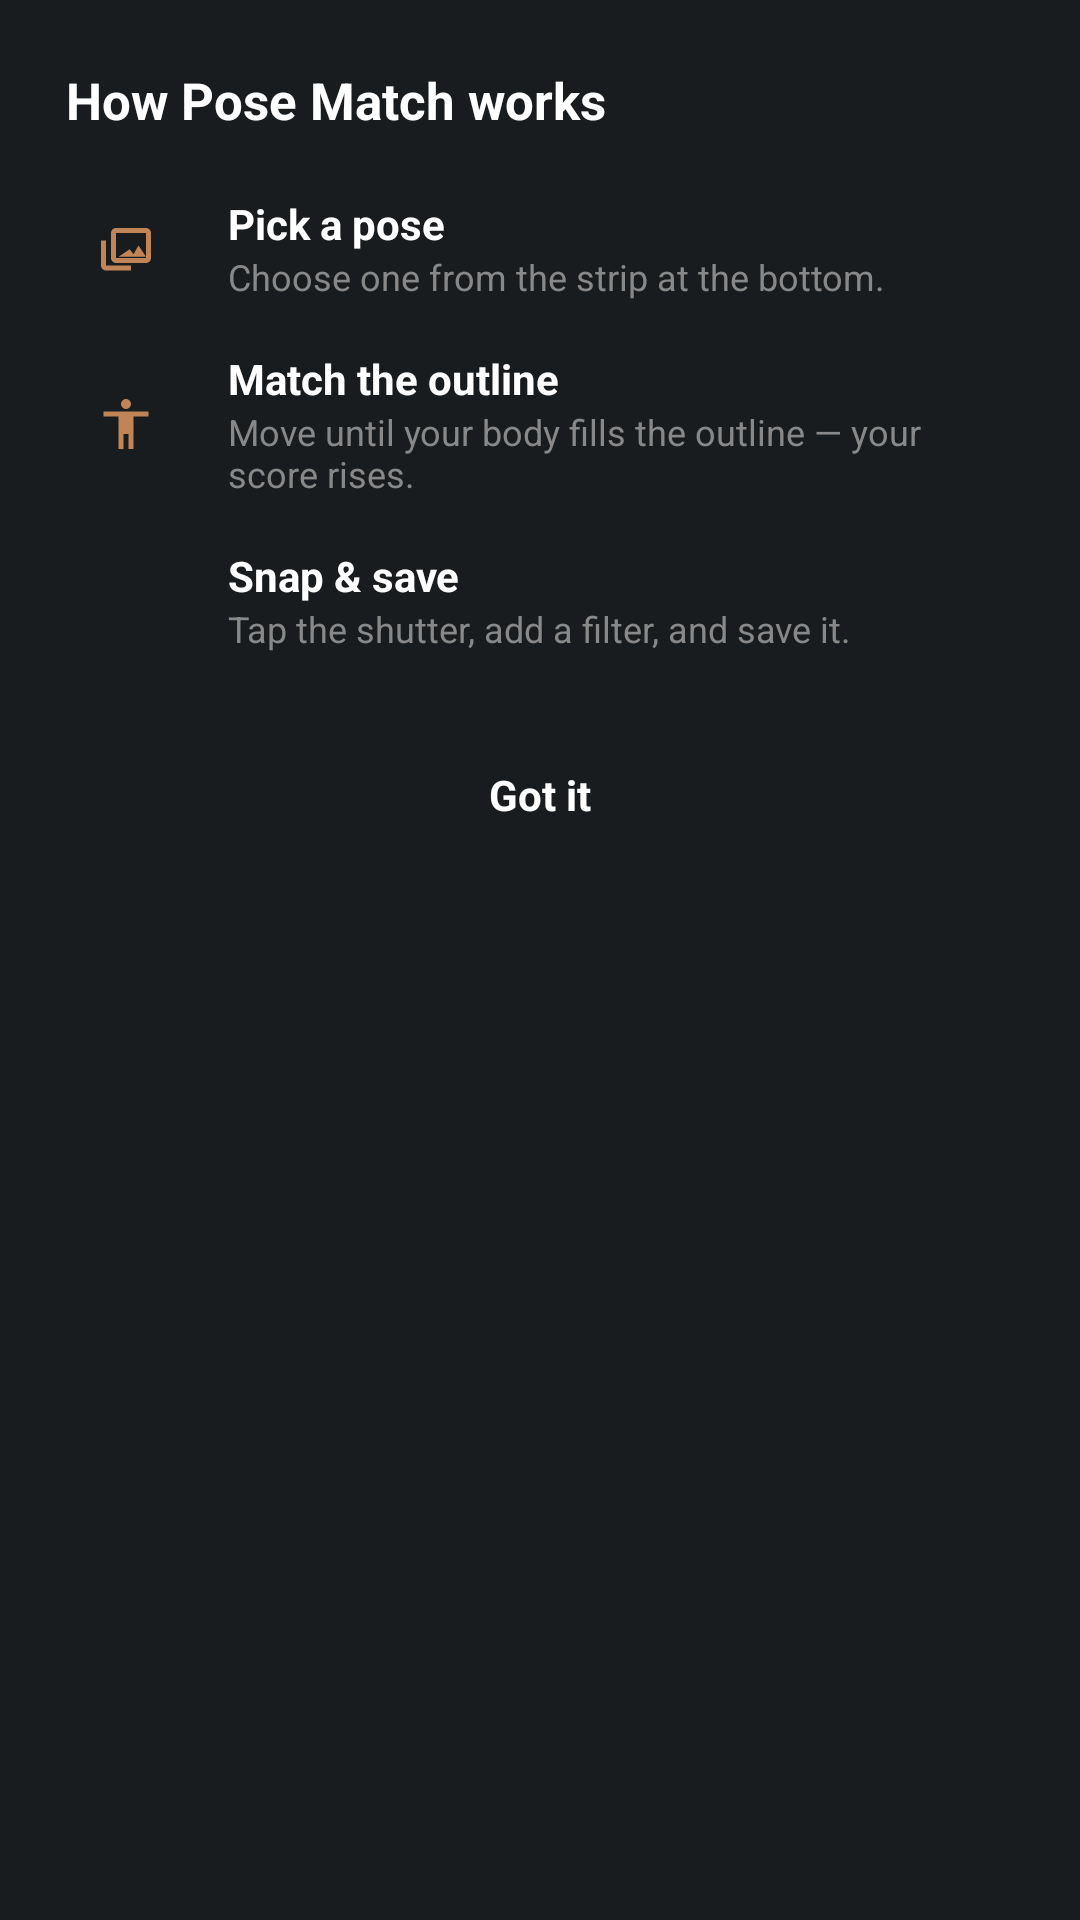

Where icons sit on this 1080 x 1920 app screen, as (x1, y1, x2, y2):
accessibility: (103, 399, 149, 449)
collections: (101, 228, 151, 271)
